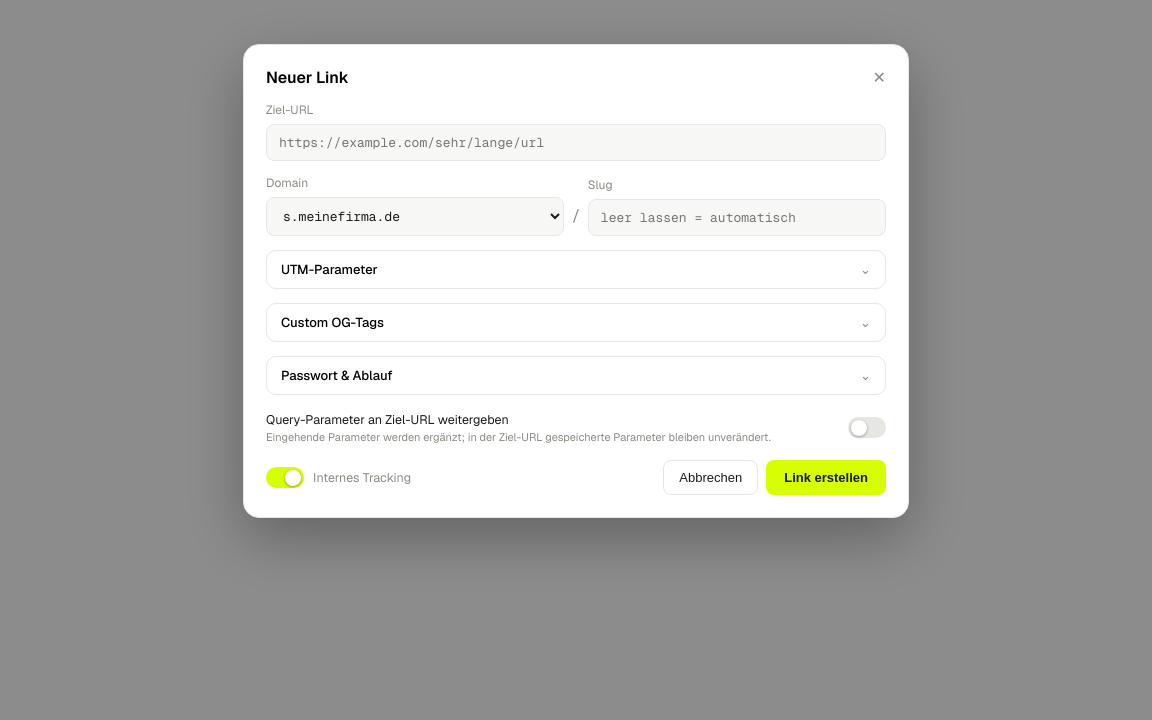
LinkFormModal › UTM-Parameter section (Surface A) › shows the live preview reflecting the typed target URL unchanged when no UTM value is set
The width and height of the screenshot is (1152, 720).
Click the button with class "accordion-header--utm". click: (329, 270)
box: [281,261,871,278]
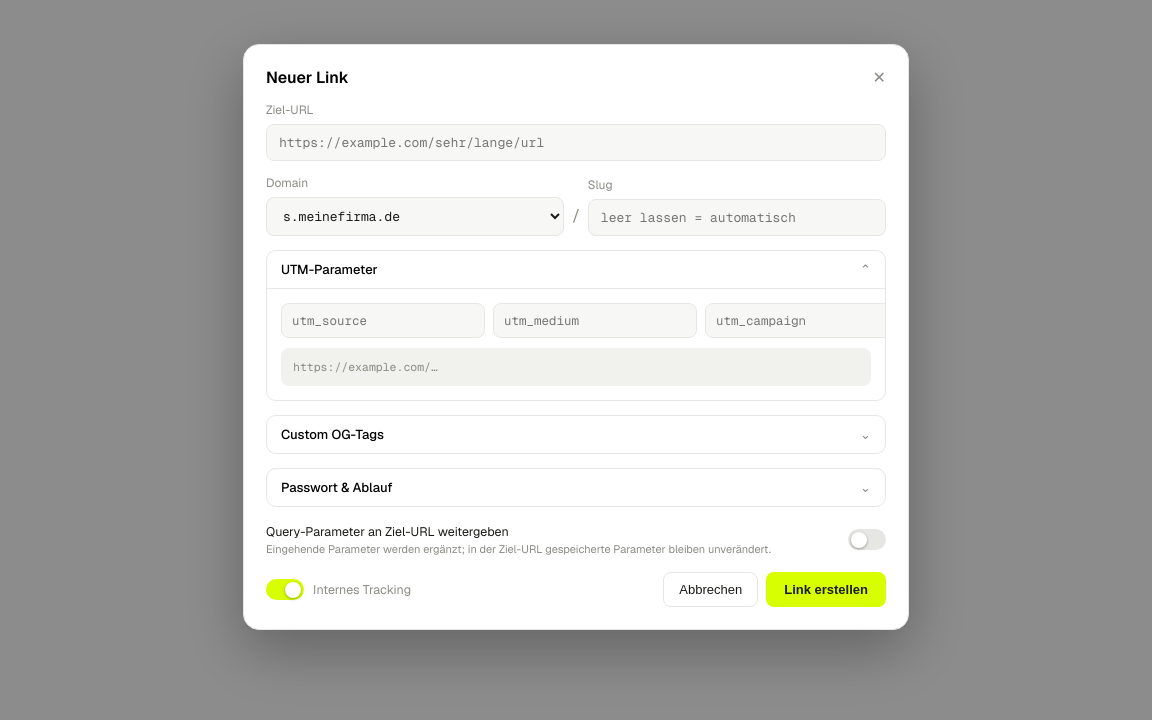
Type "https://example.com/x" into the 1st field with class "mono". click: (576, 142)
box: [266,124,886,161]
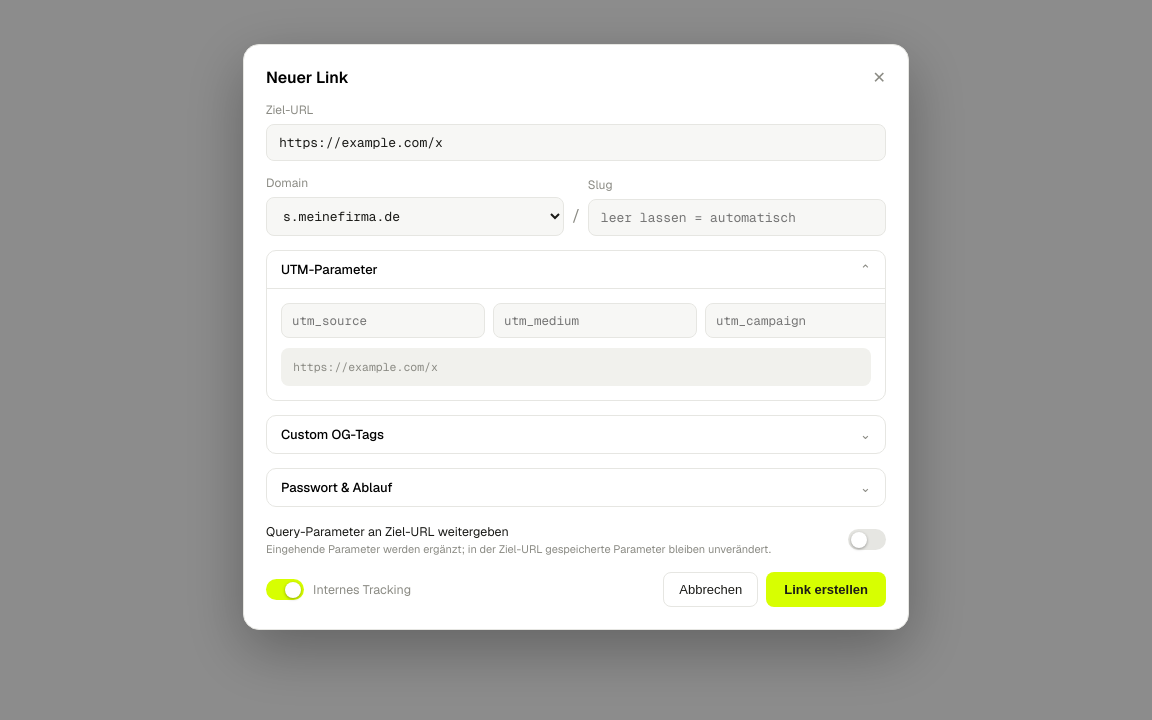
Expected: the text with class "utm-preview" reads "https://example.com/x", [293,359,438,374]
